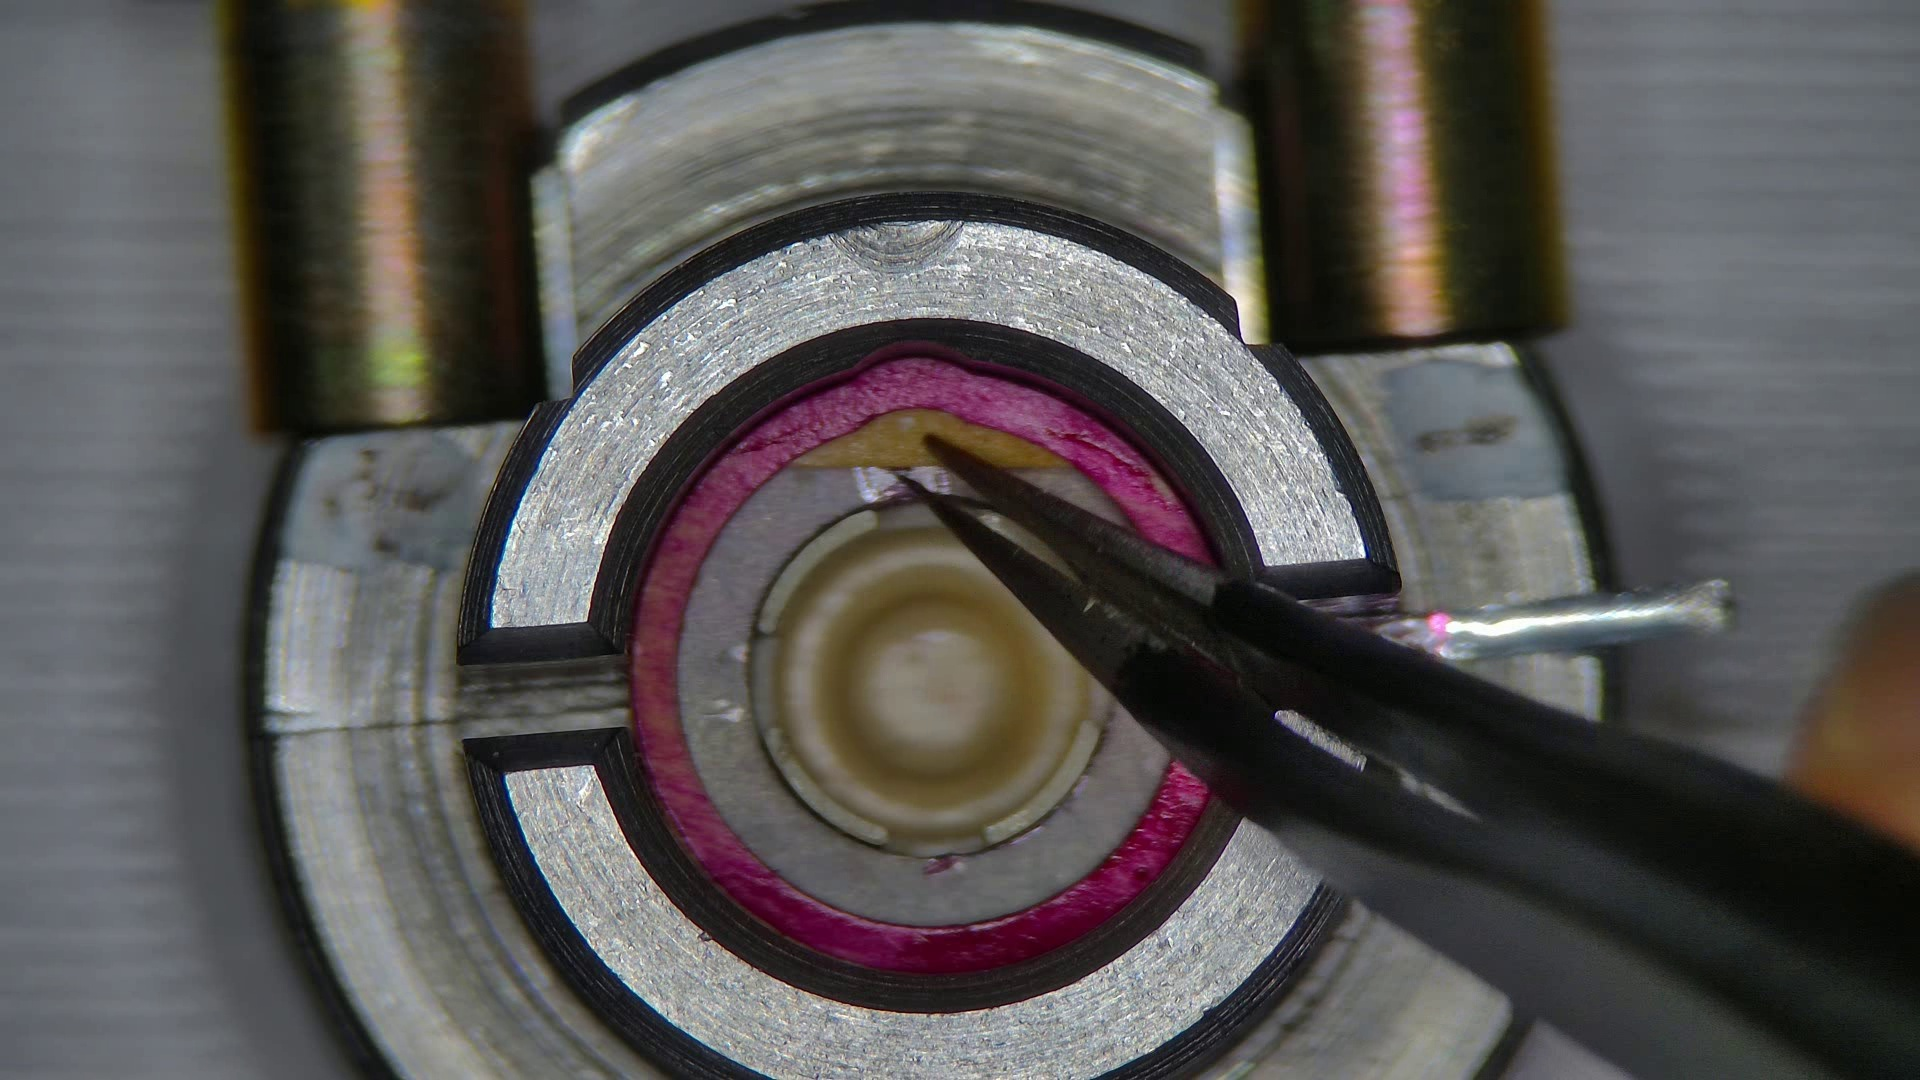GreyOring: (630, 355, 1209, 975), (1135, 737, 1146, 738)
YellowOring: (676, 465, 1164, 926)
redOring: (786, 409, 1075, 469)
